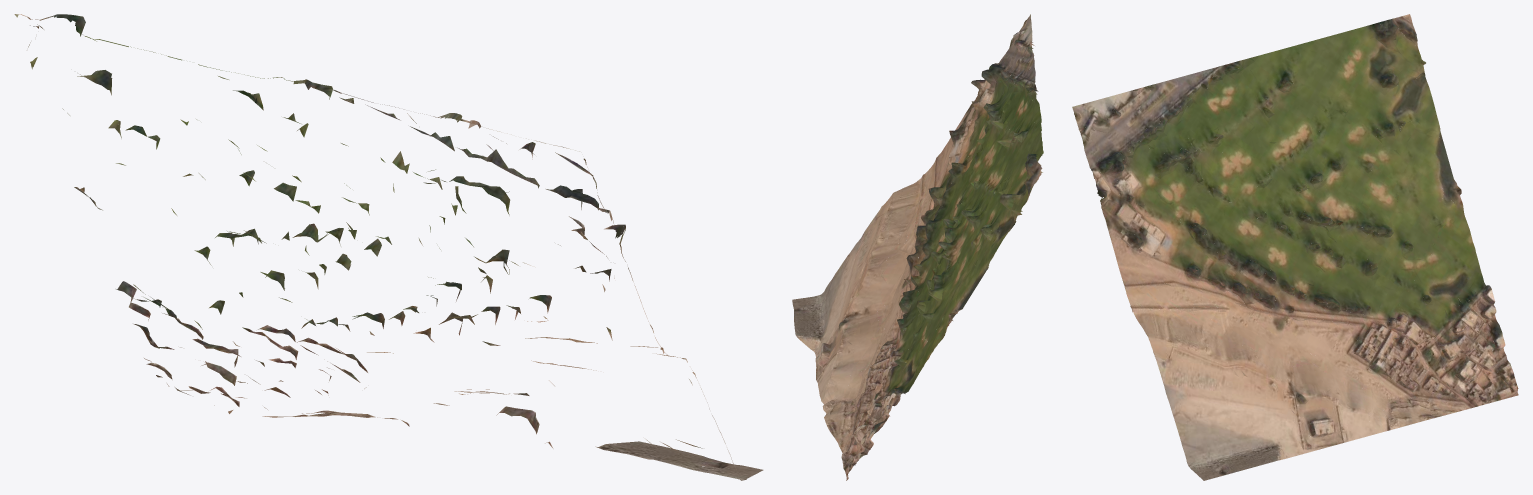
Rendered from tile.glb.
3 renders of one model, left to right at view 1: azimuth 30°, elevation 25°; view 2: azimuth 150°, elevation 25°; view 3: azimuth 270°, elevation 25°, orthographic. The views are drawn at different scales.
Parts seen in each view (by area): view 1: node_0; view 2: node_0; view 3: node_0.
Part boxes in pixels (x1=…): node_0: x1=14, y1=14, x2=763, y2=480; node_0: x1=792, y1=14, x2=1043, y2=480; node_0: x1=1072, y1=14, x2=1518, y2=480.
Size of the model in its own units: 532 by 448 by 574.
Materials: 2 (2 with a texture image).
